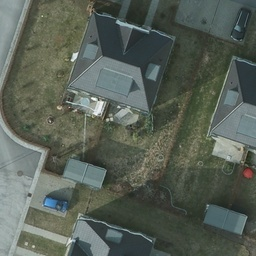car: (231, 9, 250, 44), (41, 192, 67, 213)
